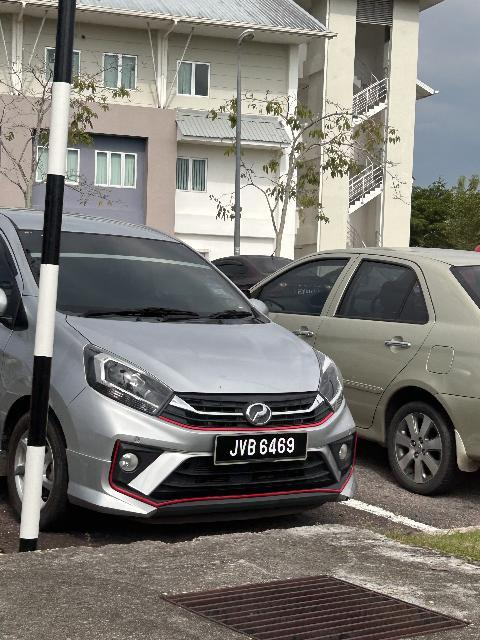JVB6469: (213, 432, 310, 466)
License_Plate: (213, 432, 310, 466)
